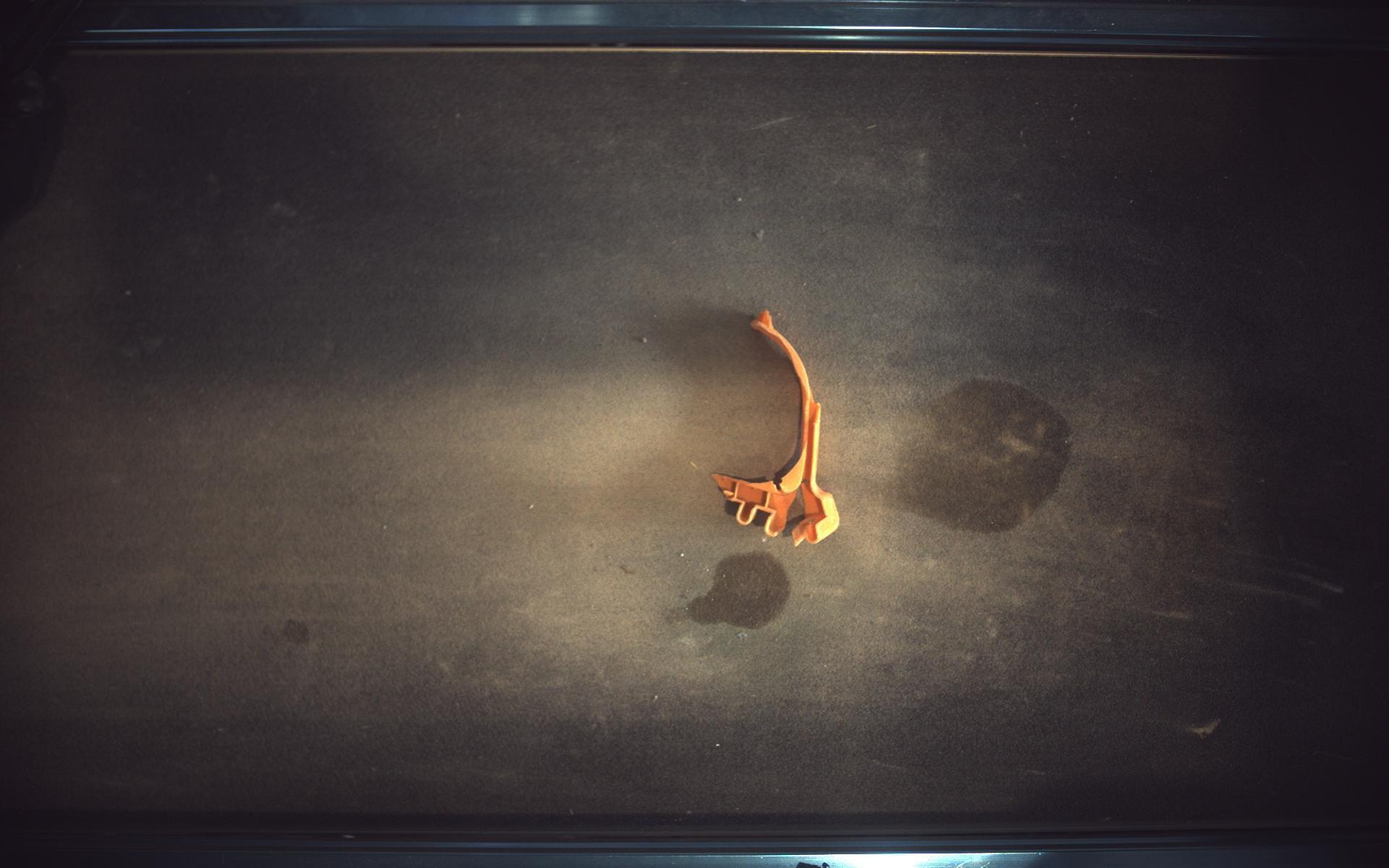general_w: (713, 310, 841, 546)
